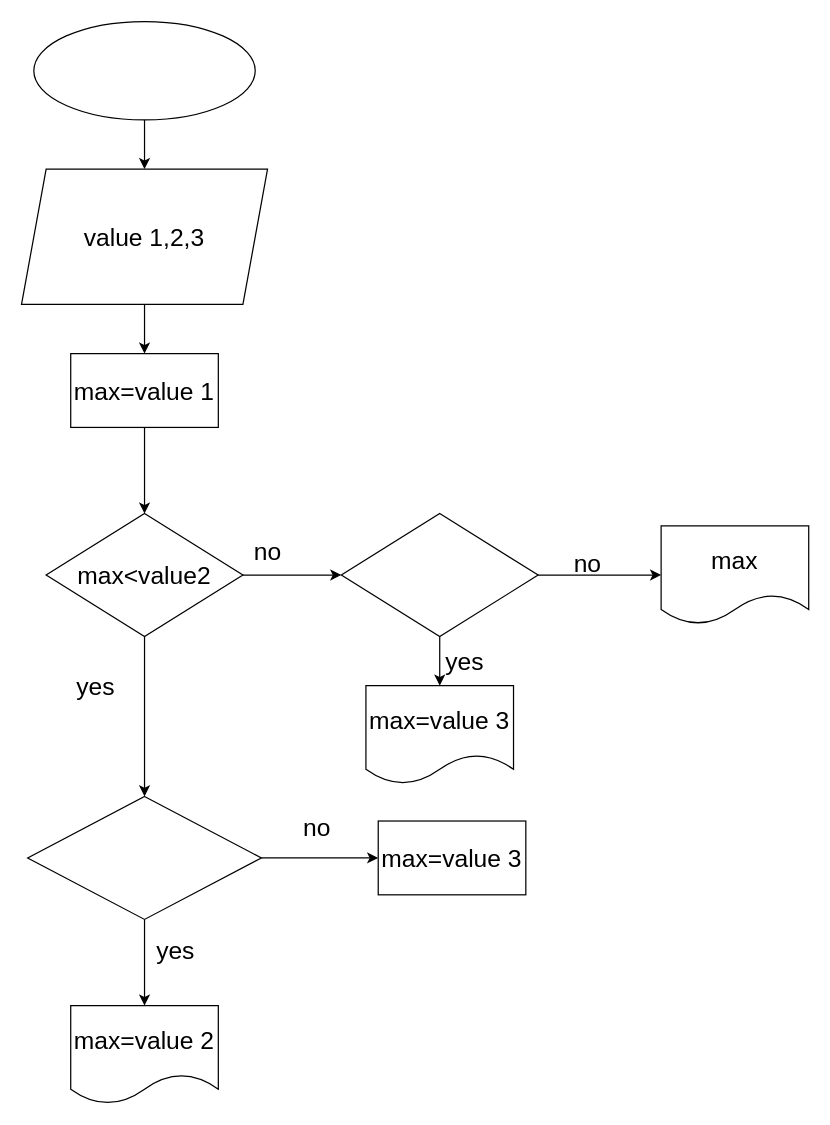
Some shapes in this 830 by 1125 pixel diagram are drawn without their labels. The centre of each missing label's shape, as x and y in pixels:
"max<value3" belongs at [439,574].
"start" belongs at [144,70].
"value 2 >value 3" belongs at [143,857].
